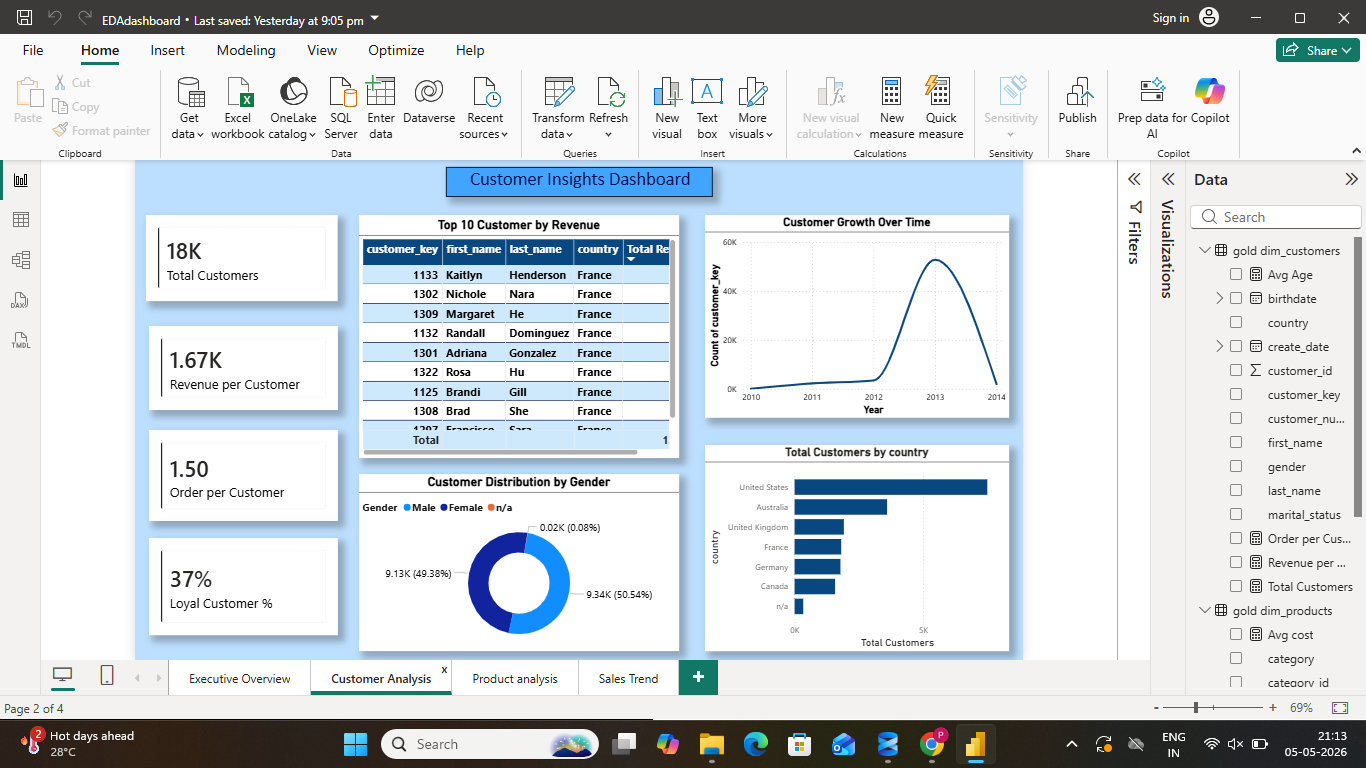

The page's visual inventory and layout, read from the dashboard file:
{"tool":"powerbi","page":{"name":"Customer Analysis","canvas":[1280,720],"ordinal":1},"visuals":[{"type":"cardVisual","fields":{"Data":["gold dim_customers.Revenue per Customer"]},"box":[20.2,239,272.2,121],"z":0},{"type":"cardVisual","fields":{"Data":["gold dim_customers.Total Customers"]},"box":[15.8,79.2,276.5,123.8],"z":1000},{"type":"cardVisual","fields":{"Data":["gold dim_customers.Order per Customer"]},"box":[20.2,388.8,272.2,131],"z":2000},{"type":"textbox","title":"Customer Insights Dashboard","box":[447.8,10.1,384.5,43.2],"z":3000},{"type":"clusteredBarChart","fields":{"Category":["gold dim_customers.country"],"Y":["gold dim_customers.Total Customers"]},"box":[820.8,410.4,437.8,296.6],"z":4000},{"type":"donutChart","title":"Customer Distribution by Gender","fields":{"Category":["gold dim_customers.gender"],"Y":["CountNonNull(gold dim_customers.customer_key)"]},"box":[322.6,452.2,460.8,254.9],"z":5000},{"type":"tableEx","title":"Top 10 Customer by Revenue","fields":{"Values":["gold dim_customers.customer_key","gold dim_customers.first_name","gold dim_customers.last_name","gold dim_customers.country","gold fact_sales.Total Revenue"]},"box":[322.6,79.2,460.8,349.9],"z":6000},{"type":"lineChart","title":"Customer Growth Over Time","fields":{"Category":["gold fact_sales.order_date.Variation.Date Hierarchy.Year","gold fact_sales.order_date.Variation.Date Hierarchy.Month"],"Y":["CountNonNull(gold fact_sales.customer_key)"]},"box":[820.8,79.2,437.8,292.3],"z":7000},{"type":"cardVisual","fields":{"Data":["gold fact_sales.Loyal Customer %"]},"box":[20.2,544.3,272.2,139.7],"z":8000}]}

Visuals, with their boxes on the page's 1280x720 design canvas (x1, y1, x2, y2). These are canvas units, not pixel positions in the 1366x768 screenshot, which may show the page scaled, cropped or inside an application window:
cardVisual - gold dim_customers.Revenue per Customer: bbox(20, 239, 292, 360)
cardVisual - gold dim_customers.Total Customers: bbox(16, 79, 292, 203)
cardVisual - gold dim_customers.Order per Customer: bbox(20, 389, 292, 520)
"Customer Insights Dashboard" textbox: bbox(448, 10, 832, 53)
clusteredBarChart - gold dim_customers.country x gold dim_customers.Total Customers: bbox(821, 410, 1259, 707)
"Customer Distribution by Gender" donutChart: bbox(323, 452, 783, 707)
"Top 10 Customer by Revenue" tableEx: bbox(323, 79, 783, 429)
"Customer Growth Over Time" lineChart: bbox(821, 79, 1259, 372)
cardVisual - gold fact_sales.Loyal Customer %: bbox(20, 544, 292, 684)
